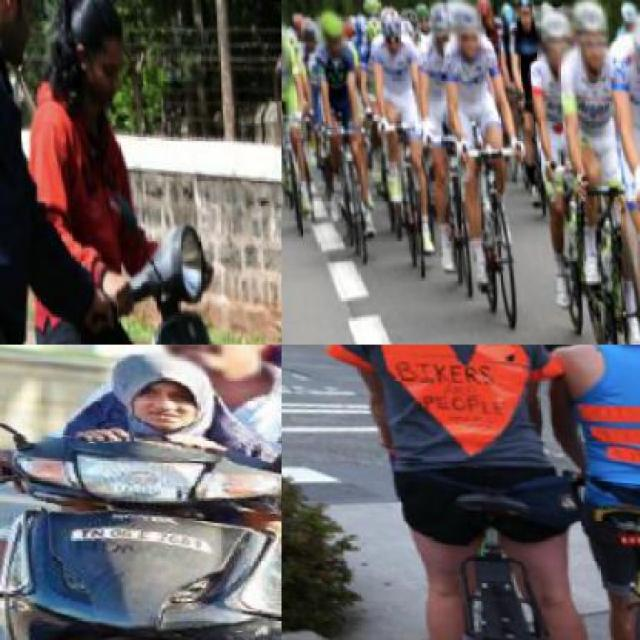With Helmet: (562, 0, 612, 71), (532, 0, 577, 62), (446, 0, 486, 63), (311, 0, 349, 62), (370, 0, 404, 54), (428, 0, 454, 48), (626, 0, 638, 98), (510, 0, 538, 32), (298, 17, 318, 55), (282, 9, 290, 72)
Without Helmet: (54, 0, 132, 103), (138, 345, 278, 380)
